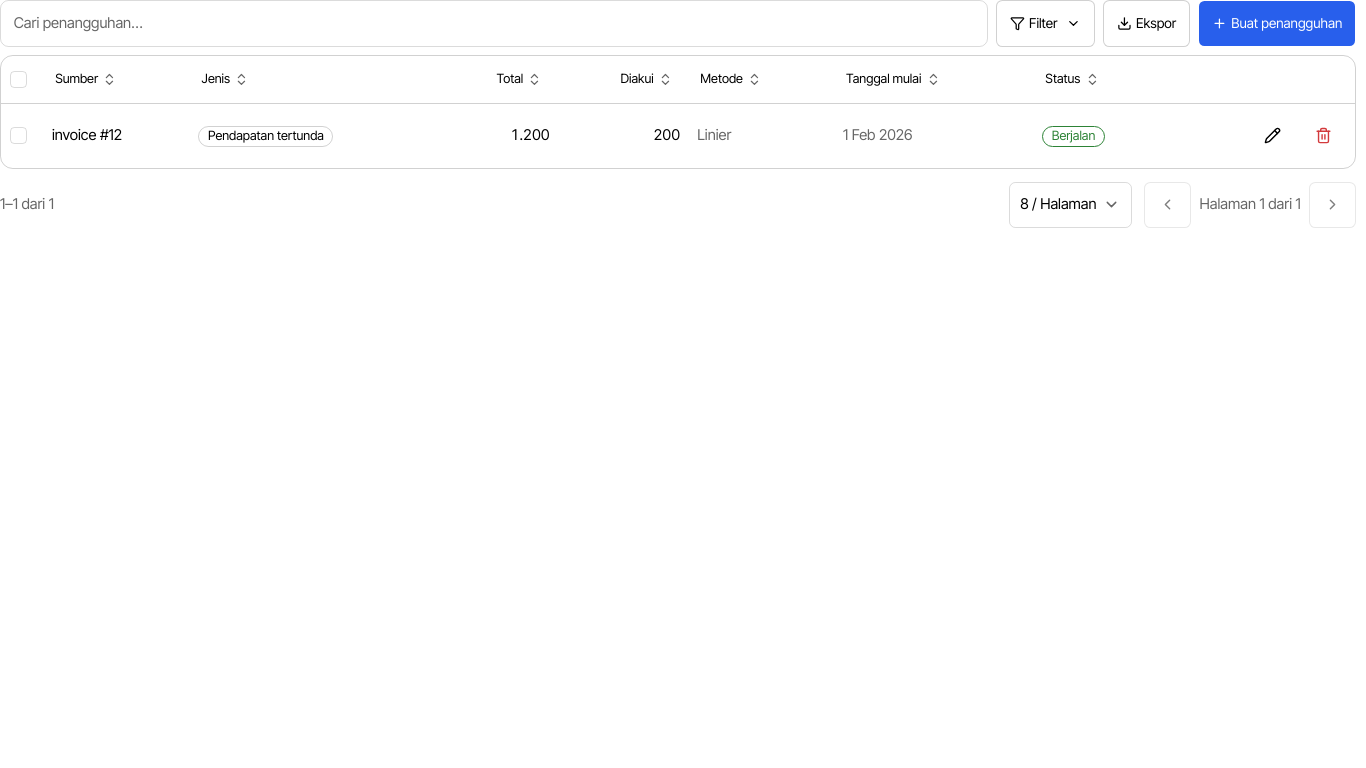
Scenario: DeferralsSection › opens the create dialog from the add button
Expected: the link "invoice #12" is shown, 52,126 -> 122,144
Click the button "Buat penangguhan" at [1277, 23], box 1198,0 -> 1356,47
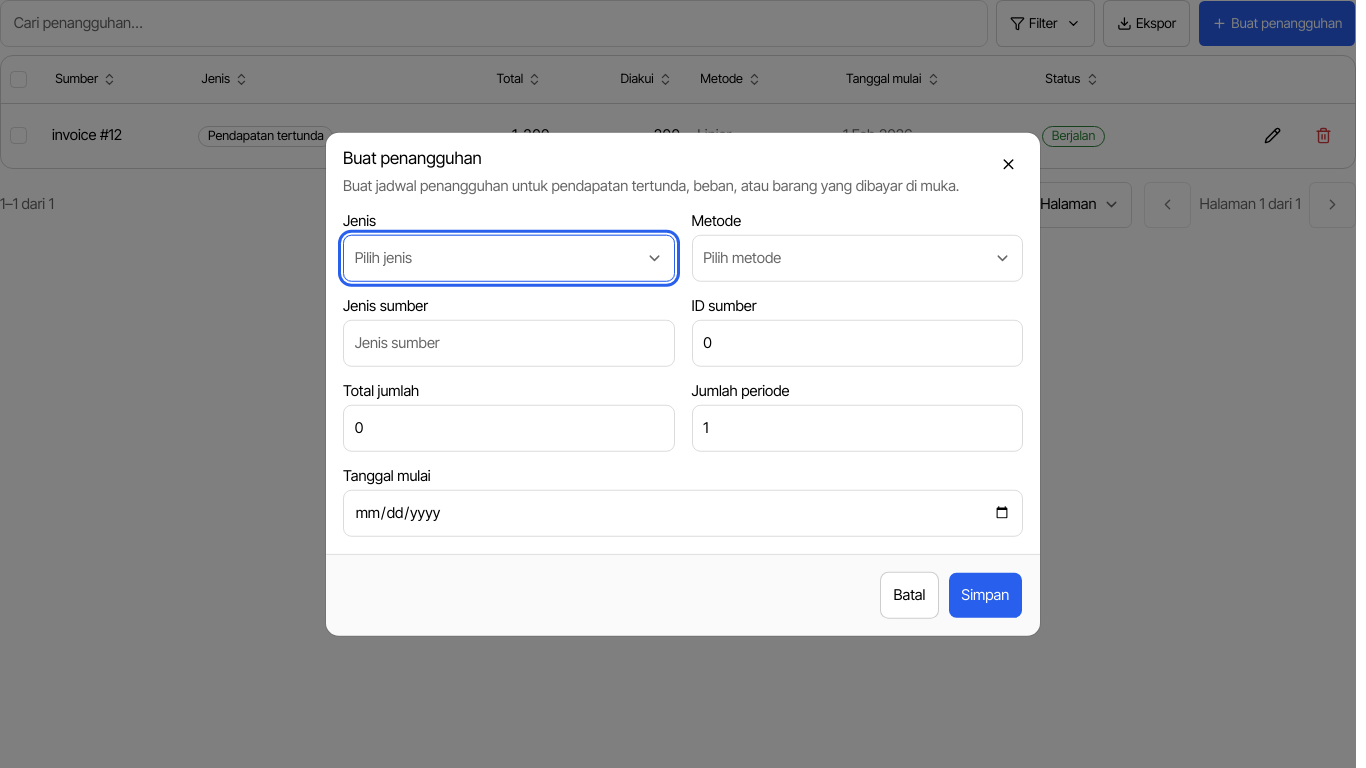
Now the heading "Buat penangguhan" is shown, box 343,148 -> 482,168
